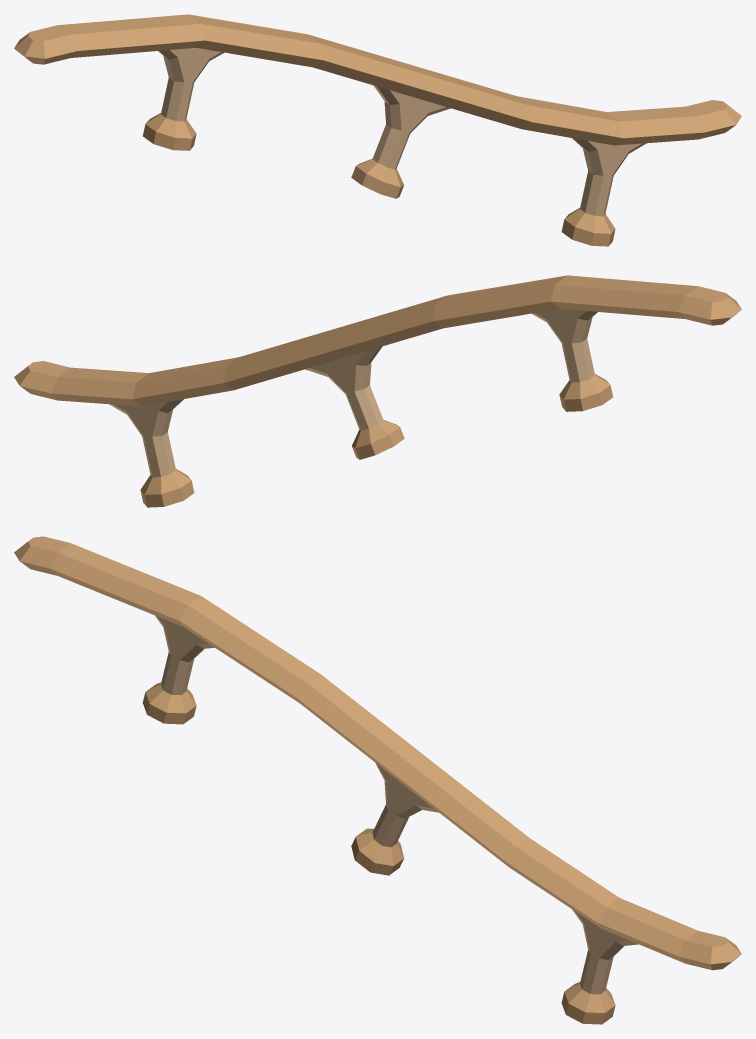
The model's file is Balcony_Railing_Bridge_Ramp.fbx.
The picture shows the model from 3 angles, top to bottom: view 1: azimuth 30°, elevation 25°; view 2: azimuth 150°, elevation 25°; view 3: azimuth 330°, elevation 25°; orthographic projection.
Parts seen in each view (by area): view 1: Sandstone_5.Sandstone_5.Sandstone_5.Sandstone_5.Sandstone_5., Sandstone_4.Sandstone_4.Sandstone_4.Sandstone_4.Sandstone_4.; view 2: Sandstone_5.Sandstone_5.Sandstone_5.Sandstone_5.Sandstone_5., Sandstone_4.Sandstone_4.Sandstone_4.Sandstone_4.Sandstone_4.; view 3: Sandstone_5.Sandstone_5.Sandstone_5.Sandstone_5.Sandstone_5., Sandstone_4.Sandstone_4.Sandstone_4.Sandstone_4.Sandstone_4..
Boxes of the visible parts, <box> form: Sandstone_5.Sandstone_5.Sandstone_5.Sandstone_5.Sandstone_5.: <box>14,14,741,246</box>; Sandstone_4.Sandstone_4.Sandstone_4.Sandstone_4.Sandstone_4.: <box>158,48,646,216</box>; Sandstone_5.Sandstone_5.Sandstone_5.Sandstone_5.Sandstone_5.: <box>14,275,741,507</box>; Sandstone_4.Sandstone_4.Sandstone_4.Sandstone_4.Sandstone_4.: <box>109,309,597,477</box>; Sandstone_5.Sandstone_5.Sandstone_5.Sandstone_5.Sandstone_5.: <box>14,536,741,1024</box>; Sandstone_4.Sandstone_4.Sandstone_4.Sandstone_4.Sandstone_4.: <box>155,615,638,994</box>.
Bounding box in the file's own units: 3.2 × 1.45 × 0.2.
